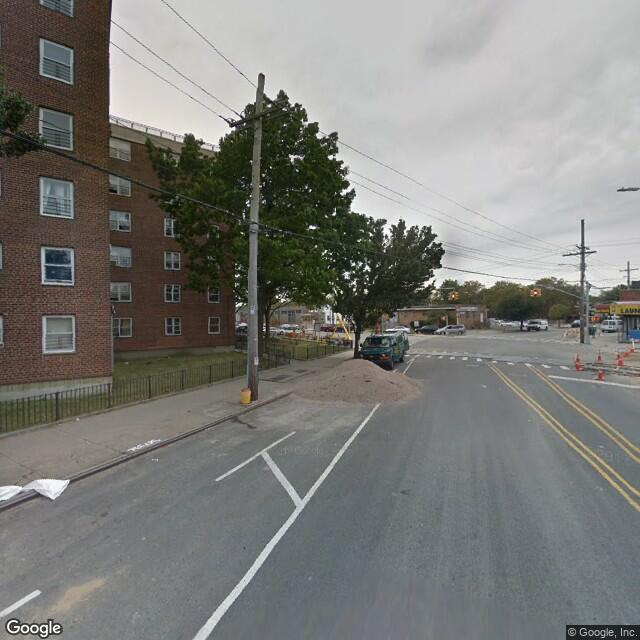litter: (152, 458, 160, 461), (76, 417, 81, 421)
